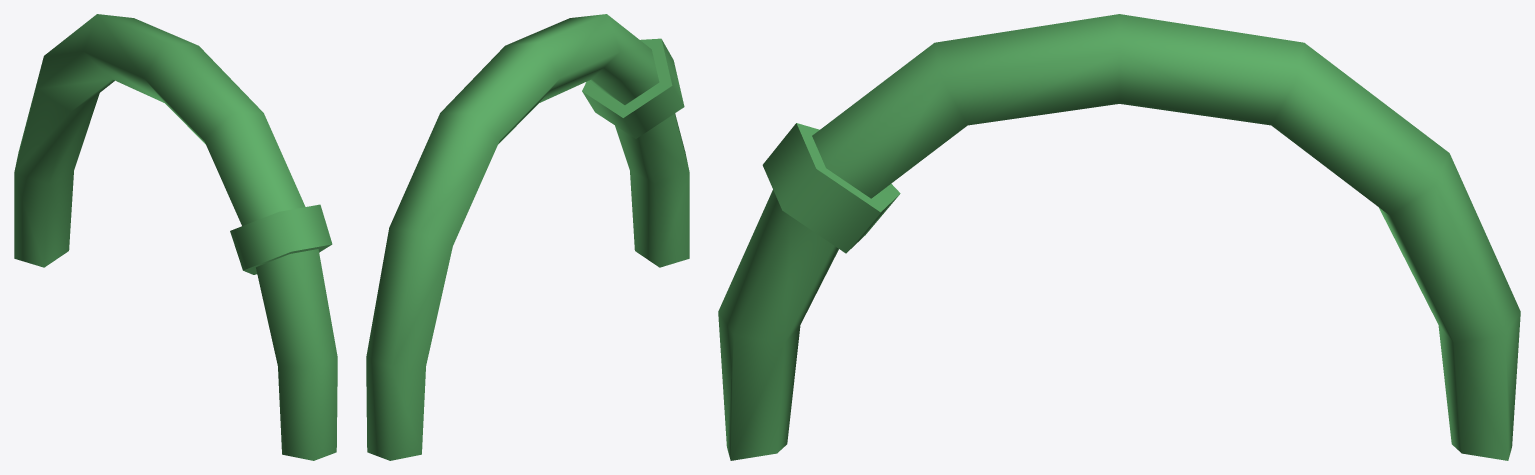
The model's file is SPipeH_1.fbx.
The picture shows the model from 3 angles, left to right: view 1: azimuth 30°, elevation 25°; view 2: azimuth 150°, elevation 25°; view 3: azimuth 270°, elevation 25°; orthographic projection. The views are drawn at different scales.
Visible parts, largest first — view 1: SPipeH_1; view 2: SPipeH_1; view 3: SPipeH_1.
Boxes of the visible parts, bbox=[...] form: SPipeH_1: bbox=[14, 14, 337, 460]; SPipeH_1: bbox=[366, 14, 689, 460]; SPipeH_1: bbox=[718, 14, 1520, 460].
Size of the model in its own units: 14.03 by 53.58 by 90.75.
